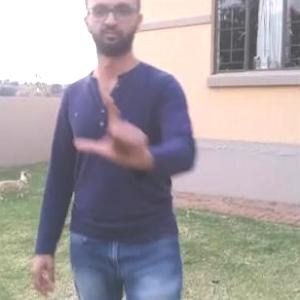land_hand: (71, 81, 155, 173)
